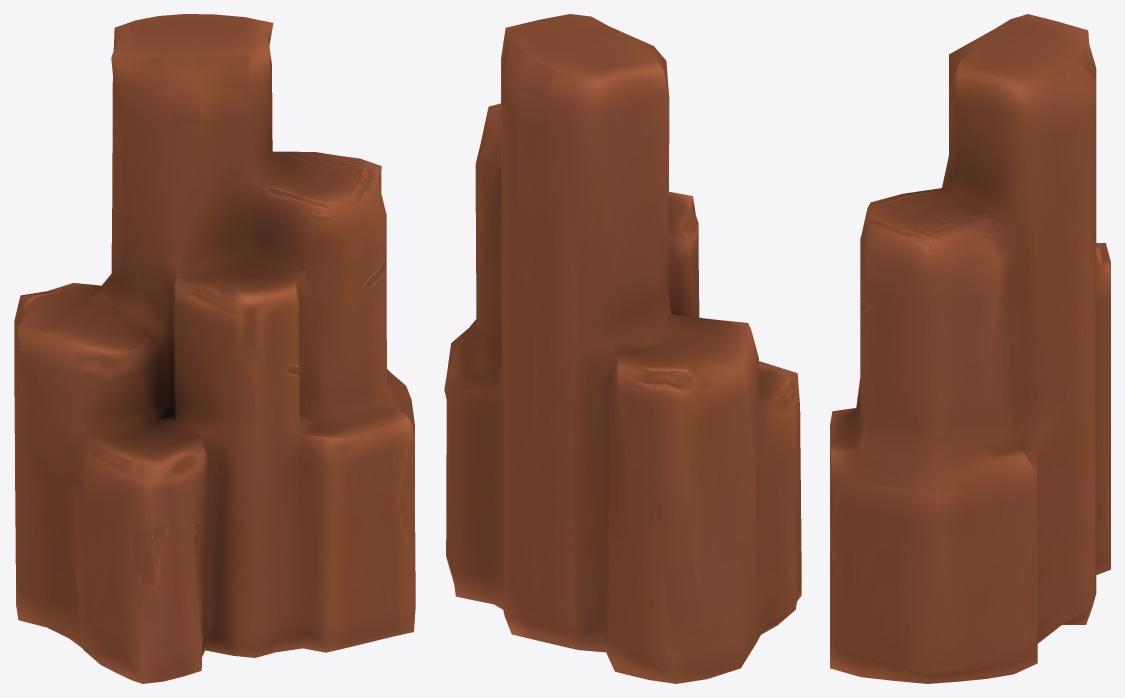
Rendered from rocks_1.glb.
The picture shows the model from 3 angles, left to right: view 1: azimuth 30°, elevation 25°; view 2: azimuth 150°, elevation 25°; view 3: azimuth 270°, elevation 25°; orthographic projection. The views are drawn at different scales.
Parts seen in each view (by area): view 1: pCylinder7; view 2: pCylinder7; view 3: pCylinder7.
Part boxes in pixels (box(x1,y1,x2,y2)): pCylinder7: box(14, 14, 415, 683); pCylinder7: box(444, 14, 801, 683); pCylinder7: box(830, 14, 1110, 683).
Size of the model in its own units: 0.0541 by 0.0853 by 0.0387.
1 material, 1 textured.
